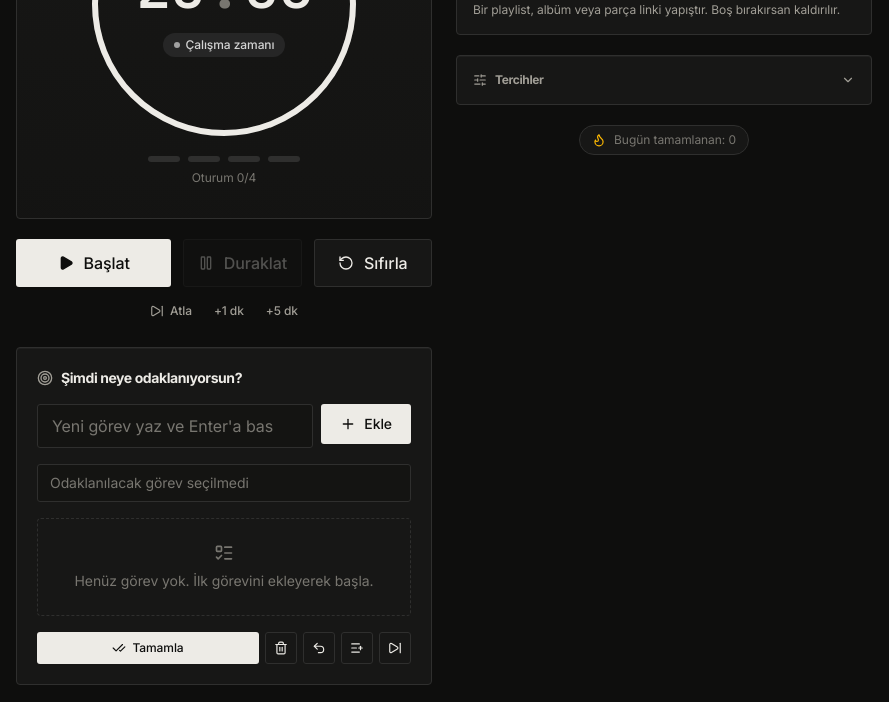
Test: PomodoroApp › ends a work session on the clock: work toast, short break, one save
(page scrolled)
expect the button "Başlat" is enabled: met, box [16,239,171,287]
expect the text "Çalışma zamanı" is shown: met, box [186,36,274,52]
Type "Test görev" into the field with placeholder "Yeni görev yaz ve Enter'a bas". click: (175, 426)
box: [37,404,313,448]
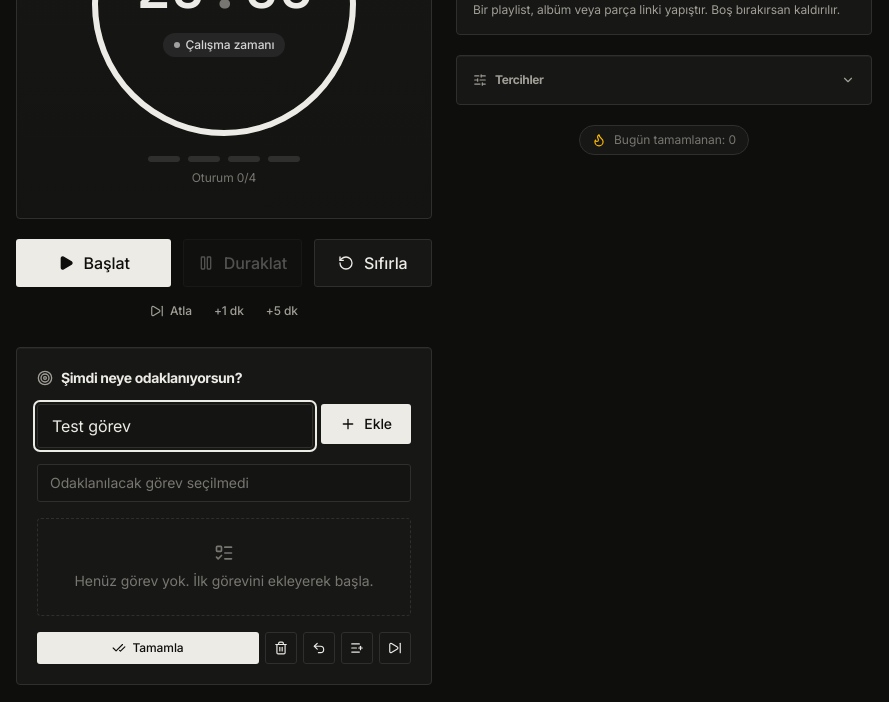
Click the button "Ekle". click: (366, 424)
box: [321,404,411,444]
(page scrolled)
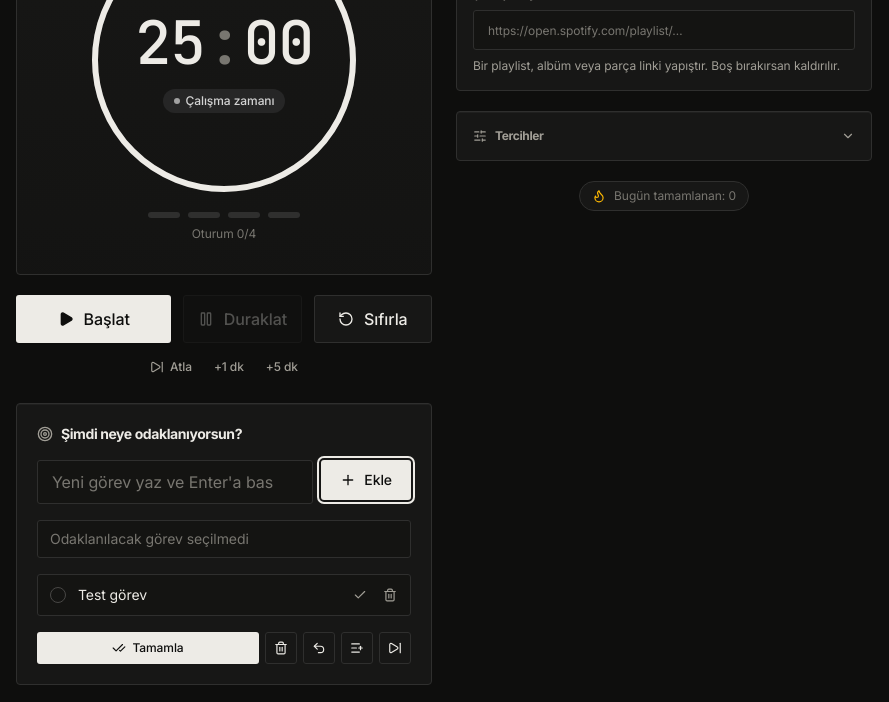
expect the text "Test görev" is shown: met, box [78,586,147,603]
# Starting the timer persists NOTHING (desktop parity: no save on start).
Click the button "Başlat". click: (94, 319)
box: [16,295,171,343]
Wait 200 ms
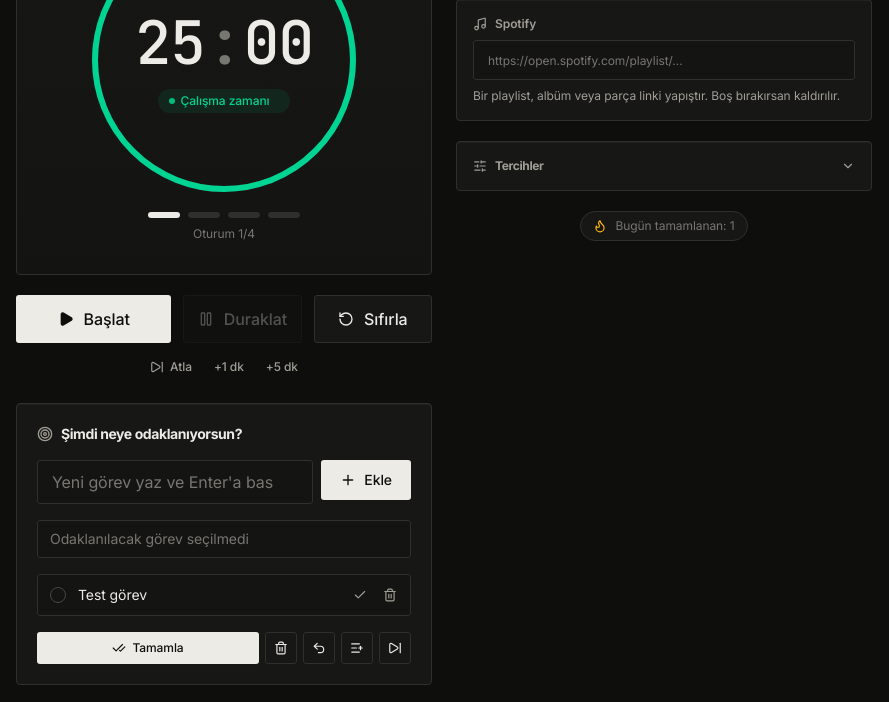
expect the button "Duraklat" is disabled: met, box [183,295,302,343]
expect the text "Bugün tamamlanan: 1" is shown: met, box [580,211,748,241]
